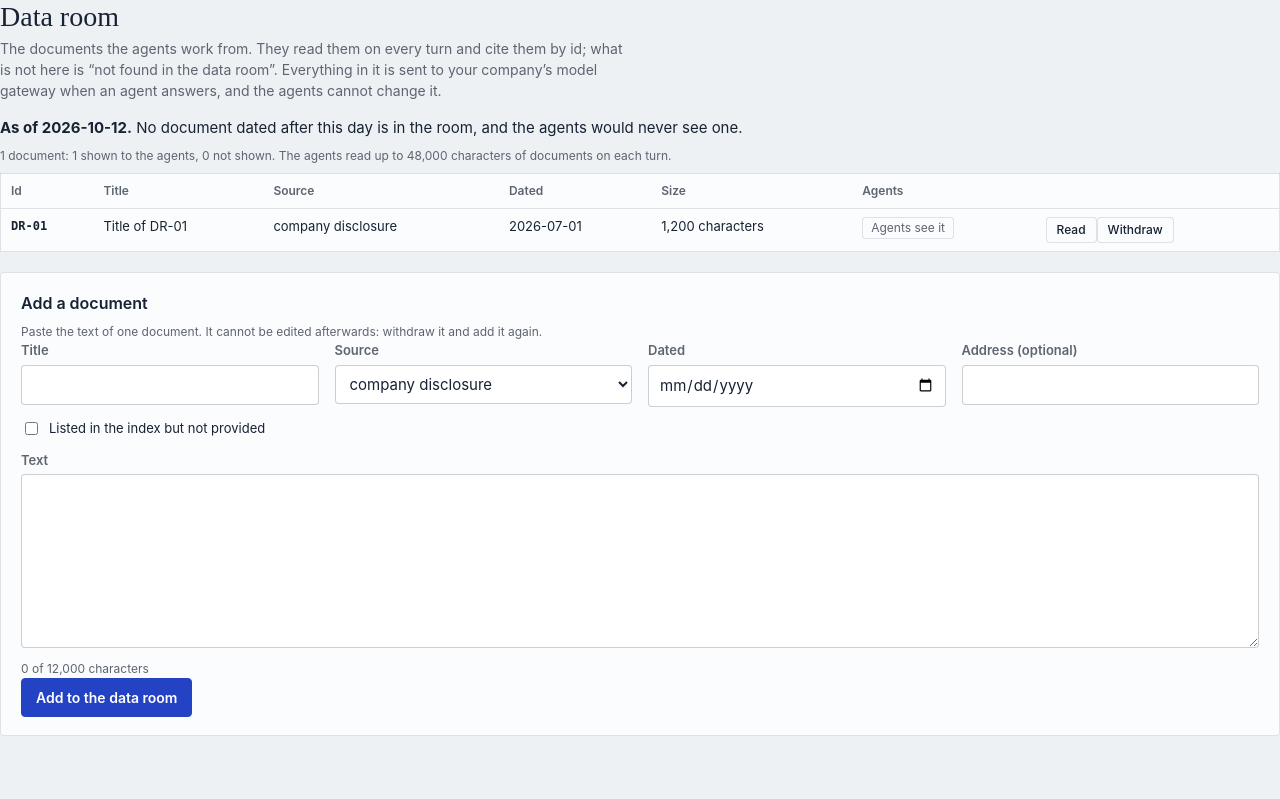
Test: DataRoomPanel: the room › lets a withdrawal be cancelled
What coordinates should you click on to do the following:
click the button with aria-label "Withdraw DR-01"
I would click on:
 (1135, 230)
Its box is 1097,217 -> 1174,243.
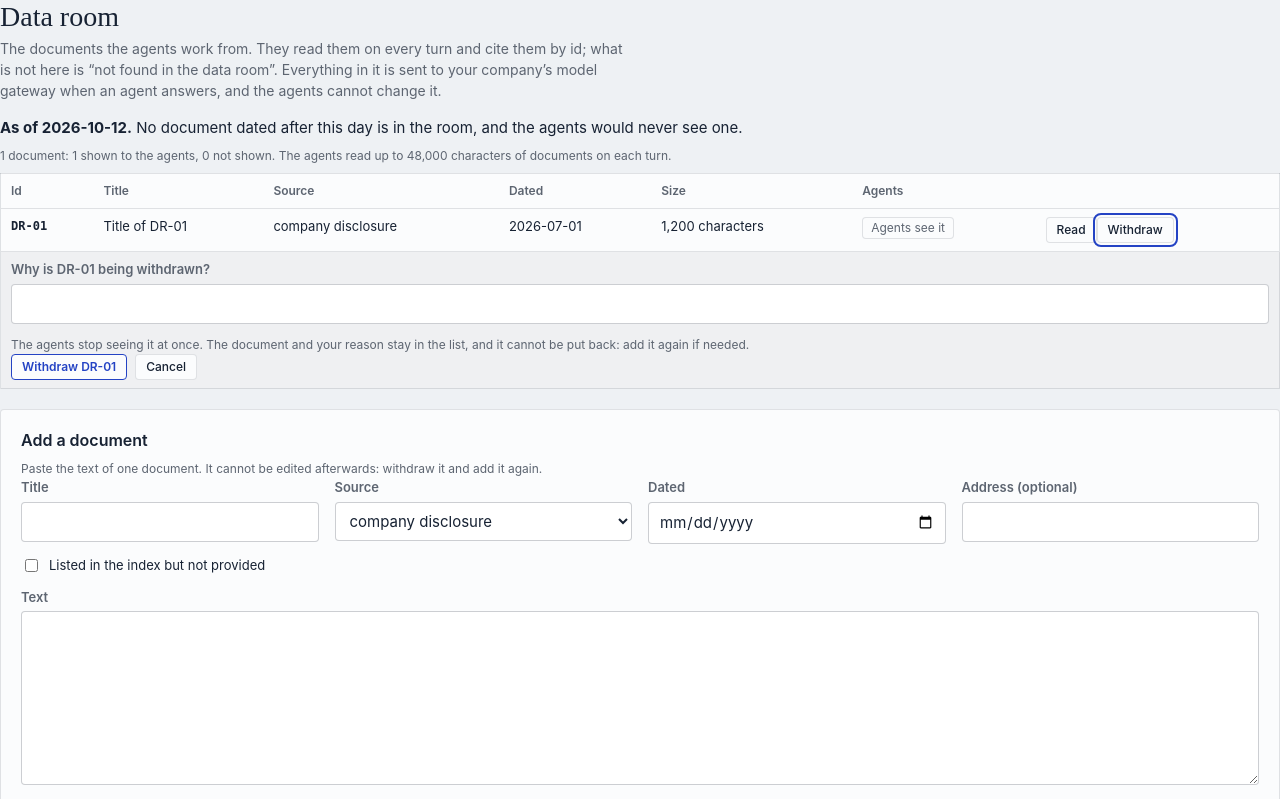
What coordinates should you click on to do the following:
click the button with aria-label "Cancel withdrawal of DR-01"
I would click on:
 (166, 367)
Its box is 135,354 -> 197,380.
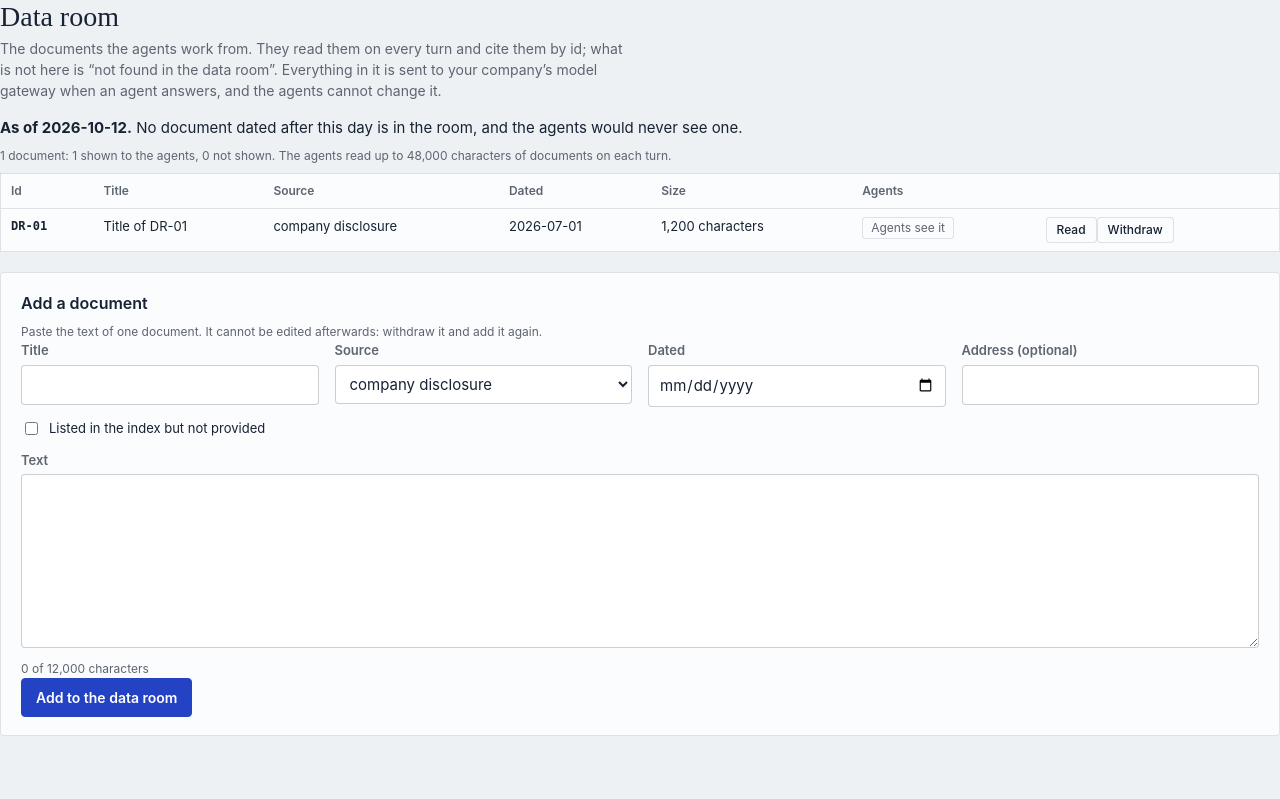
Now the text labelled "Why is DR-01 being withdrawn?" is gone
